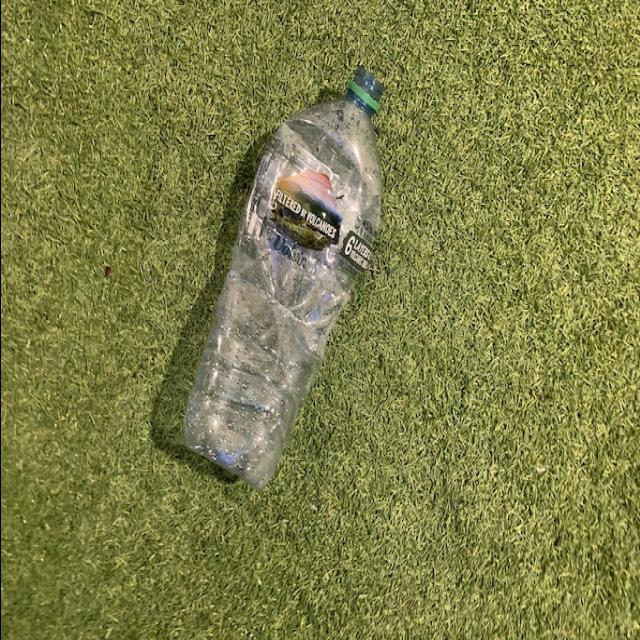PET: (176, 55, 398, 491)
